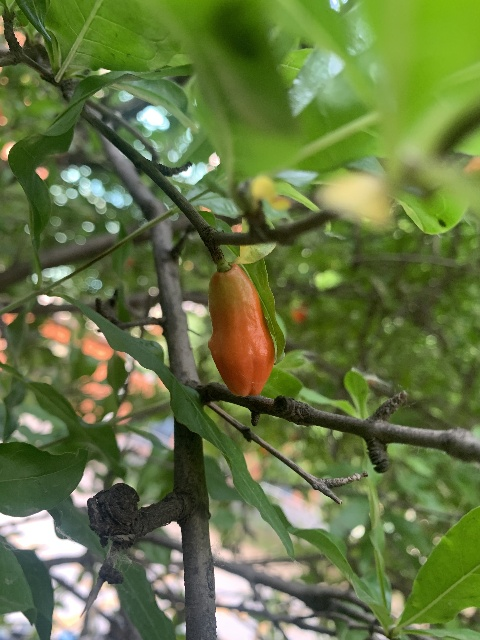bud: (205, 264, 275, 397)
